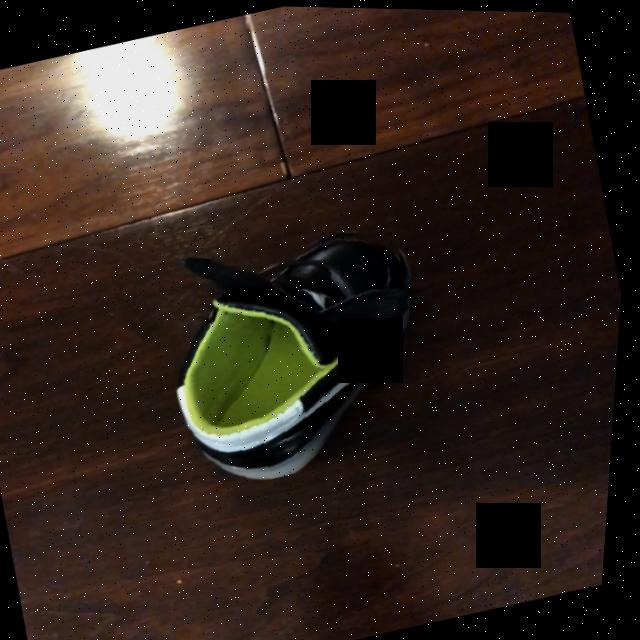shoe: (183, 239, 407, 480)
